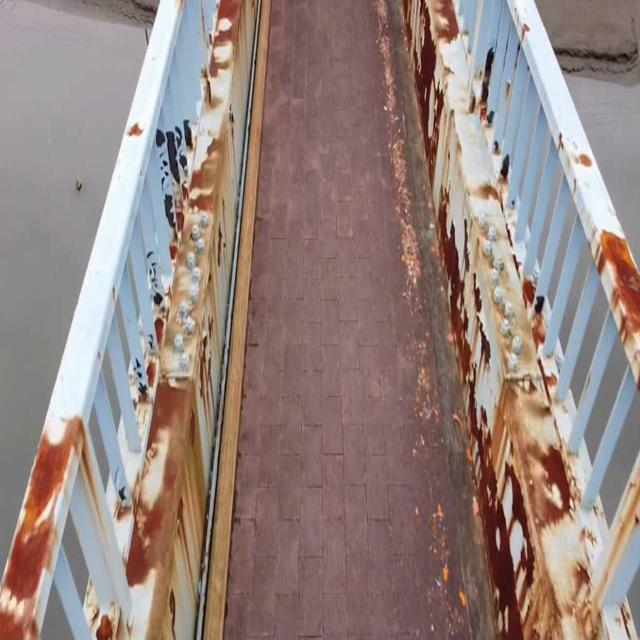corrosion: (10, 23, 270, 640), (401, 34, 636, 640)
